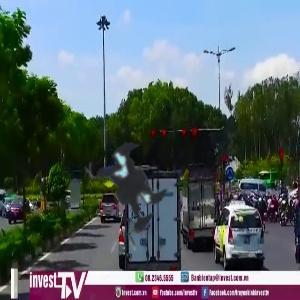drone: (45, 101, 218, 274)
